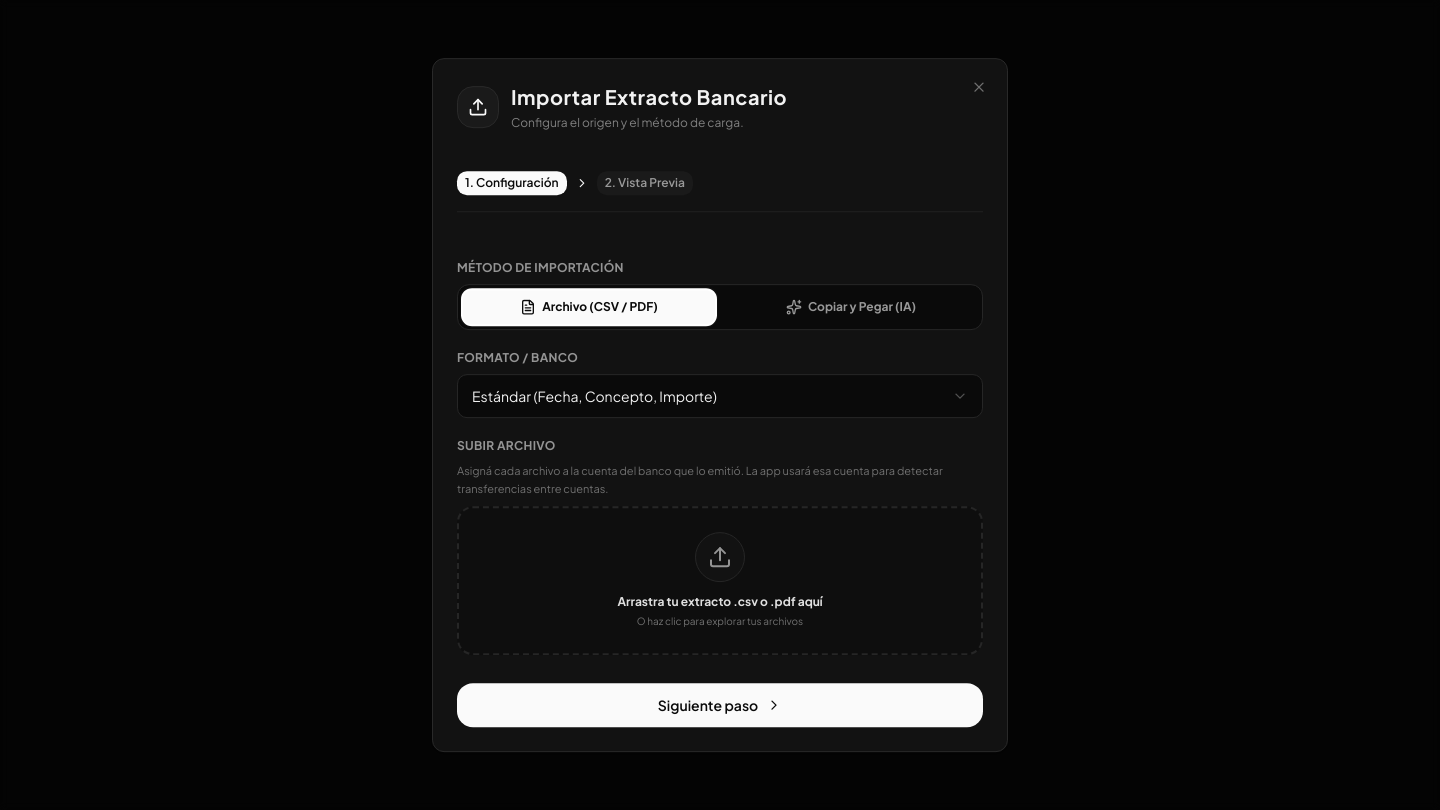
Test: ImportStatementModal UI › debe mostrar error en Step 1 si se intenta avanzar con texto AI vacío
This screenshot has width=1440, height=810.
Click the button "Copiar y Pegar (IA)". click: coordinates (851, 307)
box: [724, 289, 978, 325]
(page scrolled)
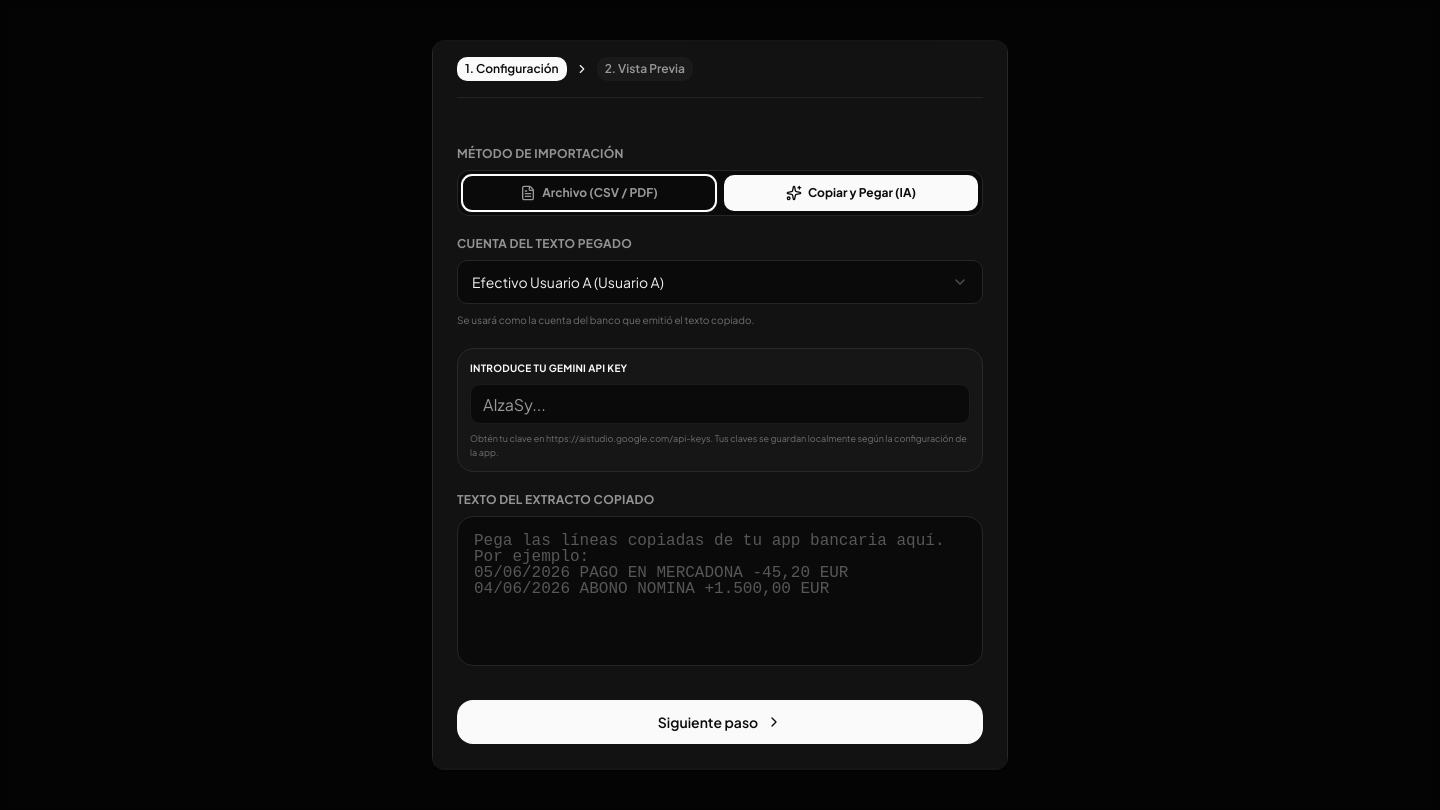
Click the button "Siguiente paso". click: coordinates (720, 723)
box: [457, 701, 983, 745]
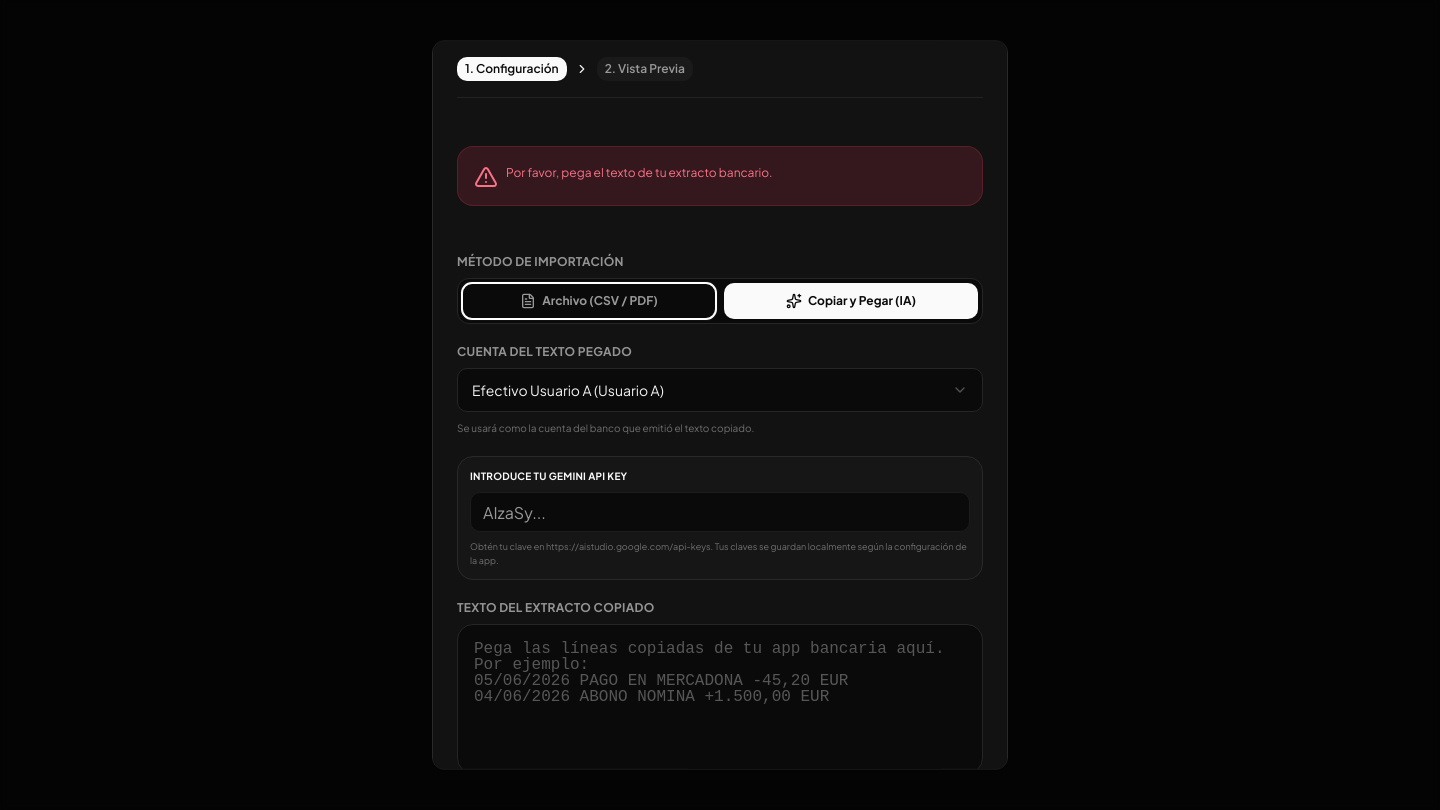
Result: the text "Por favor, pega el texto de tu extracto bancario." is shown at [506, 164, 772, 183]
